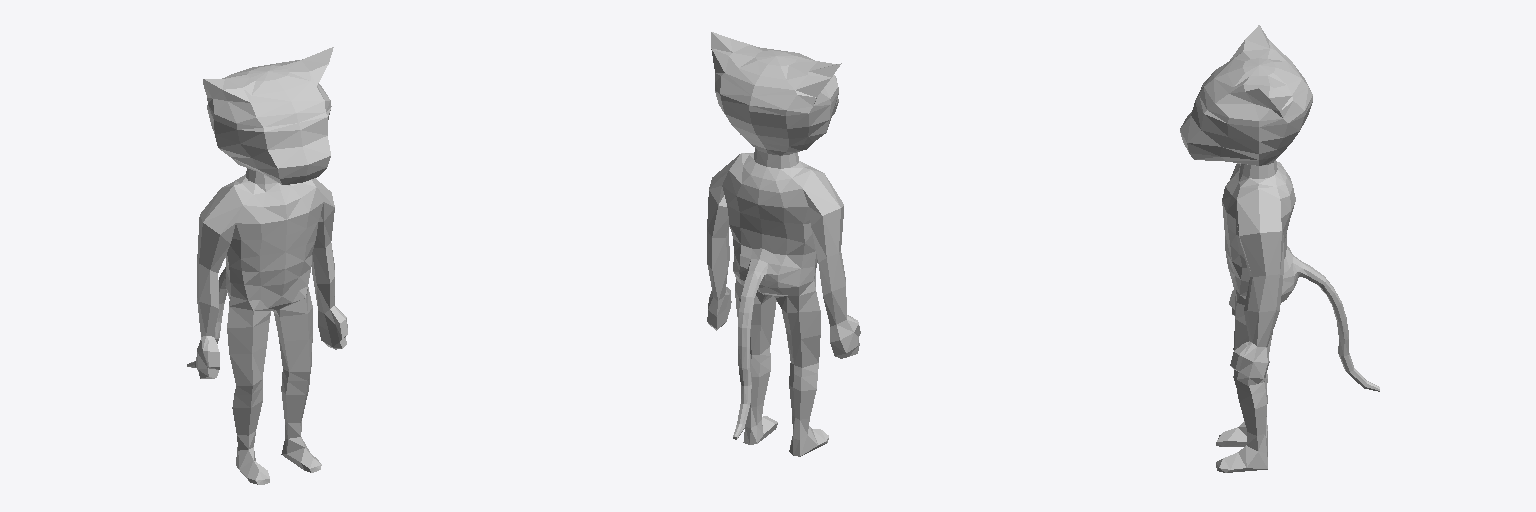
The model's file is catdude.obj.
3 renders of one model, left to right at view 1: azimuth 30°, elevation 25°; view 2: azimuth 150°, elevation 25°; view 3: azimuth 270°, elevation 25°, orthographic.
Parts seen in each view (by area): view 1: obj.catDude.000_Cat; view 2: obj.catDude.000_Cat; view 3: obj.catDude.000_Cat.
Part boxes in pixels (x1,y1,x2,y2): obj.catDude.000_Cat: (187,47,347,484); obj.catDude.000_Cat: (707,32,860,456); obj.catDude.000_Cat: (1180,25,1379,472).
Bounding box in the file's own units: 0.5631 × 1.46 × 0.6617.